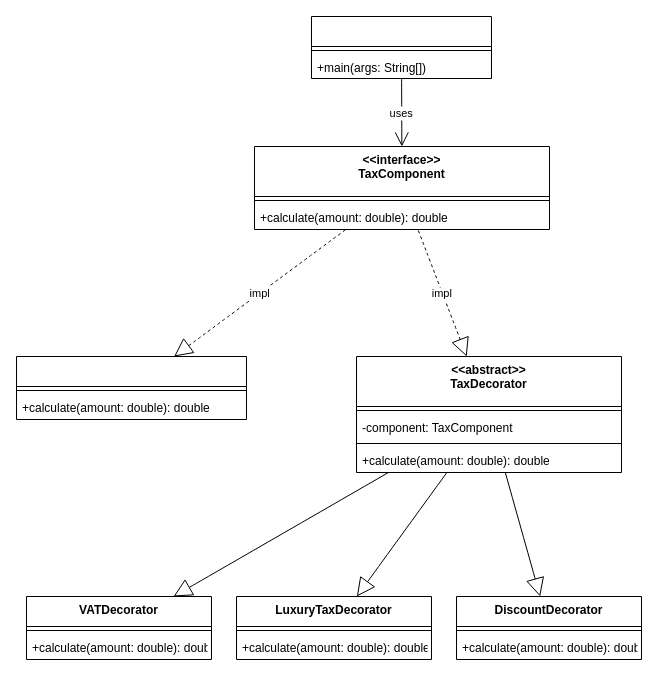
Some shapes in this 666 by 676 pixel diagram are drawn without their labels. Each missing label, with the box of its shape:
BaseTax: (16, 356, 246, 420)
TaxDecoratorMain: (310, 16, 492, 78)
